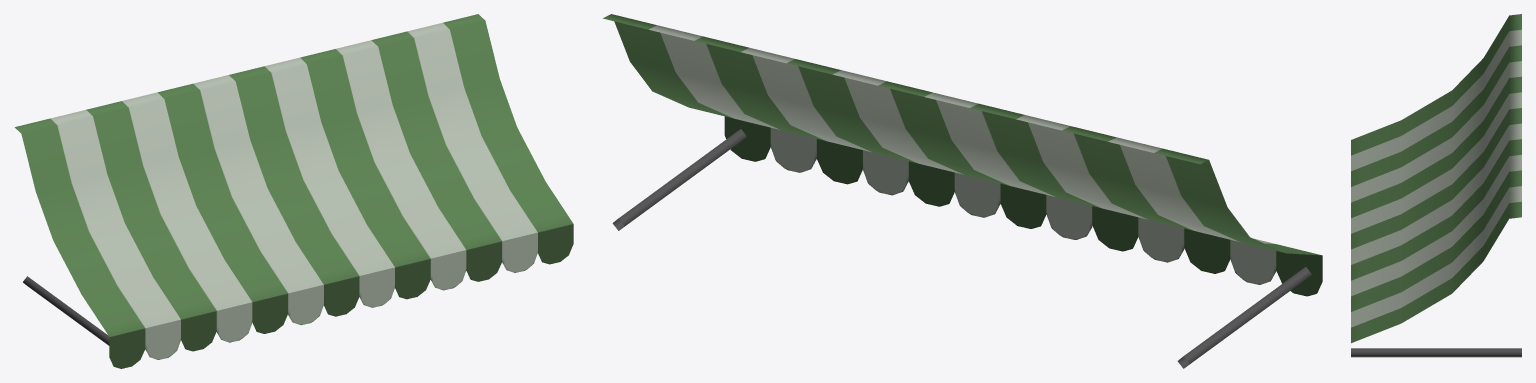
The model's file is Awning_A3.fbx.
3 renders of one model, left to right at view 1: azimuth 30°, elevation 25°; view 2: azimuth 150°, elevation 25°; view 3: azimuth 270°, elevation 25°, orthographic. The views are drawn at different scales.
Visible parts, largest first — view 1: Awning_A3; view 2: Awning_A3; view 3: Awning_A3.
Boxes of the visible parts, left/top/right/bottom form: Awning_A3: left=14, top=14, right=573, bottom=368; Awning_A3: left=603, top=14, right=1322, bottom=368; Awning_A3: left=1351, top=14, right=1521, bottom=357.
Size of the model in its own units: 454 by 164 by 161.
1 material, 1 textured.
